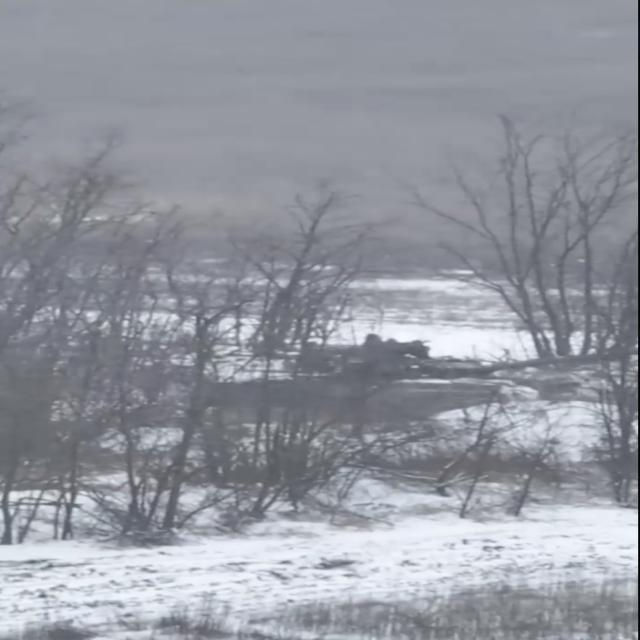infantry: (358, 326, 386, 353), (379, 331, 408, 354), (409, 339, 435, 357)
vehicle: (294, 331, 435, 376)
